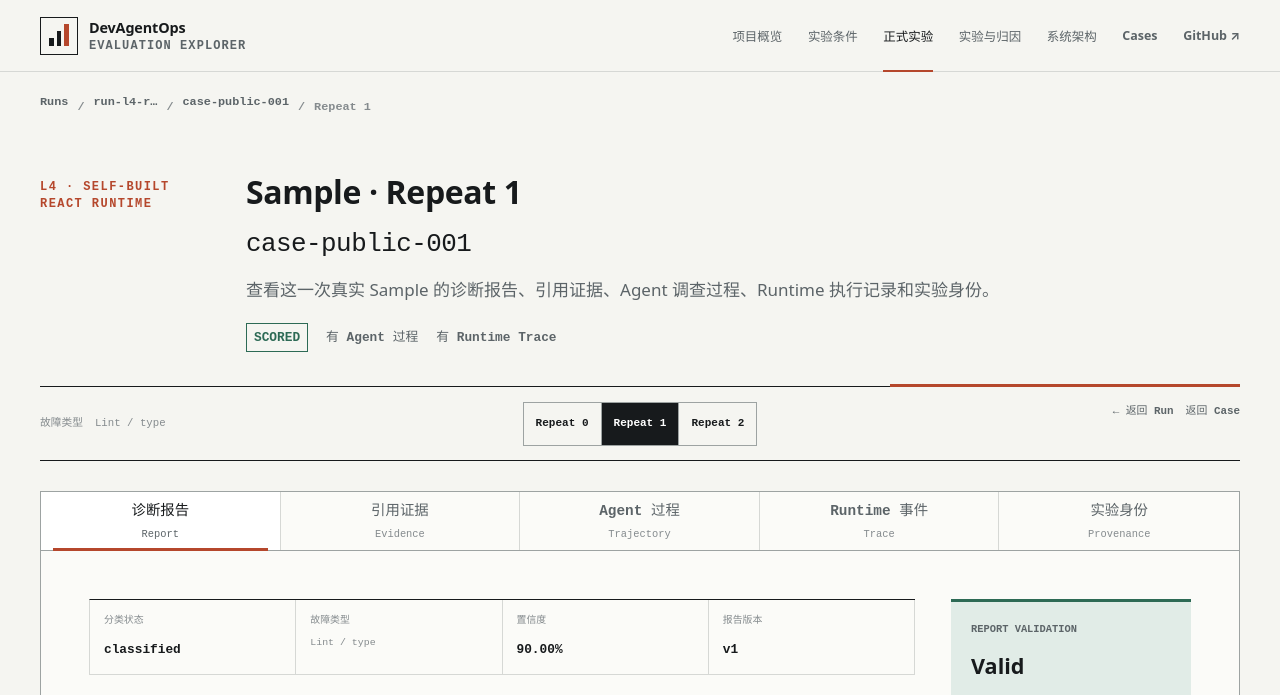
Test case: Phase 2C public Evaluation Explorer › renders a chronological Trace timeline and explicitly distinguishes it from Trajectory
The image size is (1280, 695).
Click the tab "Runtime 事件 Trace": x=880, y=521 [760,492,999,550]
(page scrolled)
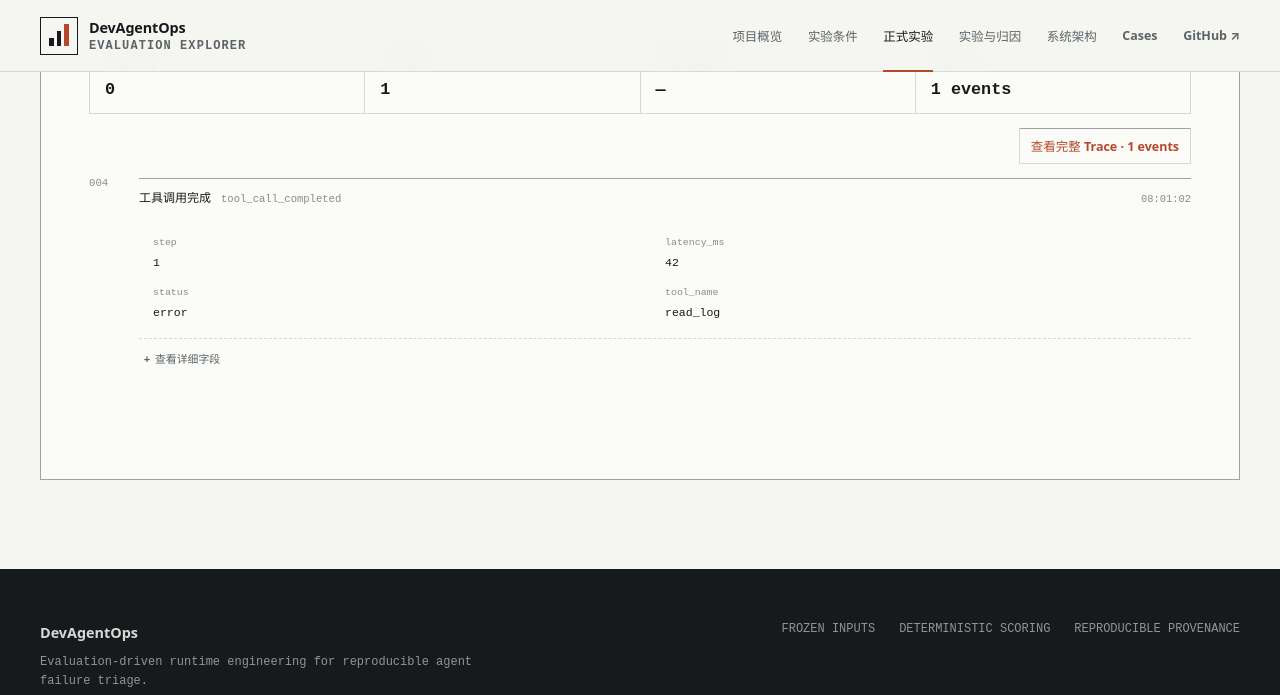
expect the text "tool_call_completed" is shown: met, box [221,193,341,205]
expect the text "004" is shown: met, box [89,177,108,189]
expect the text "latency_ms" is shown: met, box [665,237,724,248]
